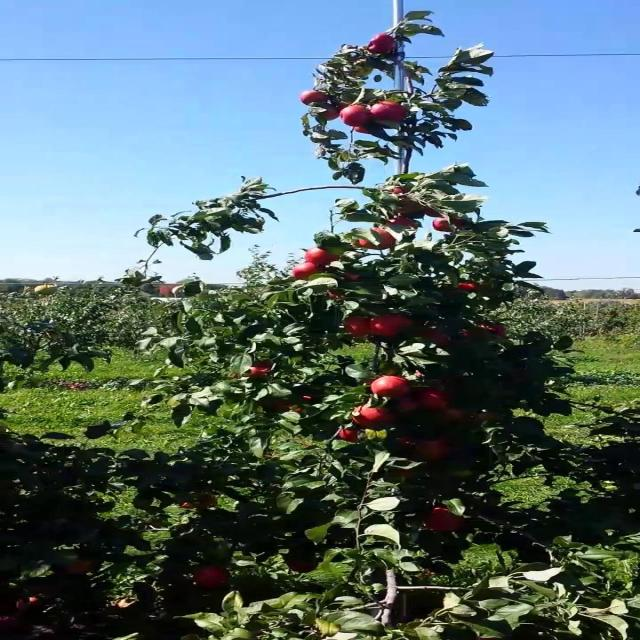apple: (419, 508, 469, 535), (371, 312, 418, 339), (369, 376, 416, 400), (369, 100, 412, 126), (355, 404, 398, 430), (177, 492, 224, 515), (355, 228, 400, 252), (412, 440, 455, 465), (191, 568, 233, 592), (497, 368, 537, 391), (362, 32, 400, 56), (419, 388, 457, 412), (56, 556, 101, 576), (291, 264, 334, 283), (298, 88, 336, 109), (376, 184, 418, 203), (340, 316, 375, 338), (284, 556, 322, 576), (241, 364, 281, 382), (468, 324, 510, 341), (419, 328, 453, 349), (433, 216, 471, 234), (312, 104, 350, 122), (305, 248, 343, 265), (454, 280, 492, 297), (340, 108, 372, 127), (447, 464, 480, 481), (333, 428, 368, 444), (255, 400, 293, 414), (440, 408, 471, 425), (383, 216, 420, 230), (390, 400, 420, 415), (390, 436, 420, 451), (397, 200, 425, 216), (476, 412, 507, 426), (156, 284, 187, 298), (390, 204, 425, 216), (390, 468, 421, 481), (419, 208, 453, 219), (326, 288, 352, 301), (340, 272, 364, 284), (348, 128, 382, 136), (298, 396, 318, 407)
